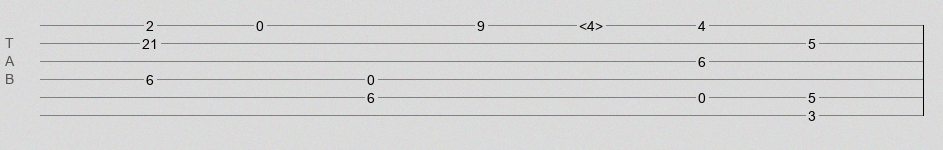0: (256, 18, 264, 28), (367, 72, 375, 82), (698, 90, 706, 100)
2: (146, 18, 154, 28)
21: (142, 36, 158, 46)
3: (808, 108, 816, 118)
4: (698, 18, 706, 28)
5: (808, 90, 816, 100), (808, 36, 816, 46)
6: (146, 72, 154, 82), (367, 90, 375, 100), (698, 54, 706, 64)
9: (477, 18, 485, 28)
harmonic: (579, 18, 603, 28)
